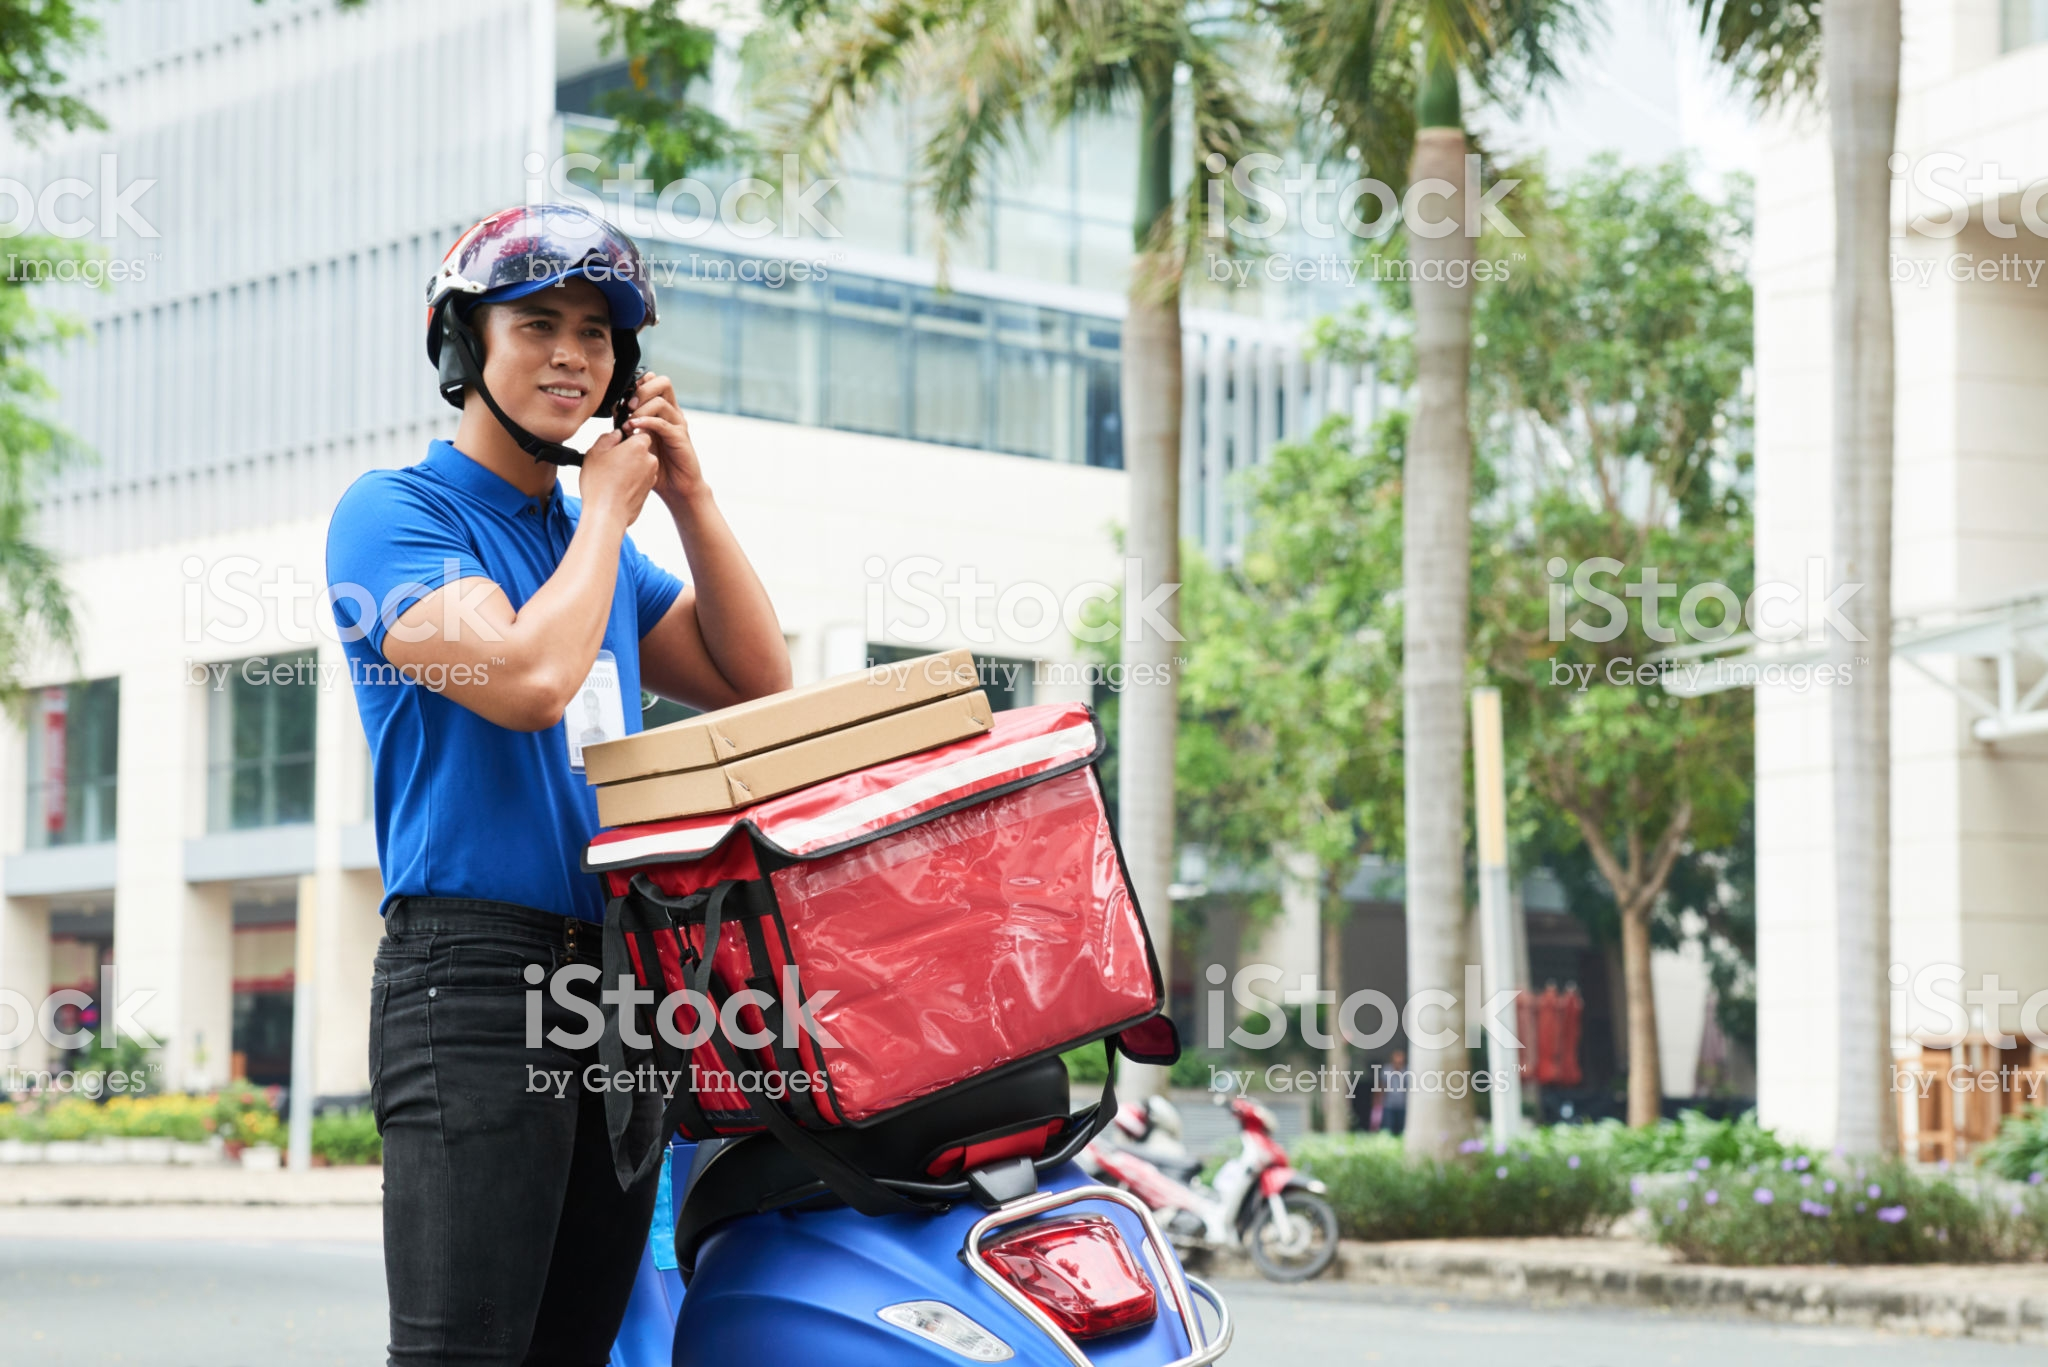helmet: (416, 209, 659, 368)
